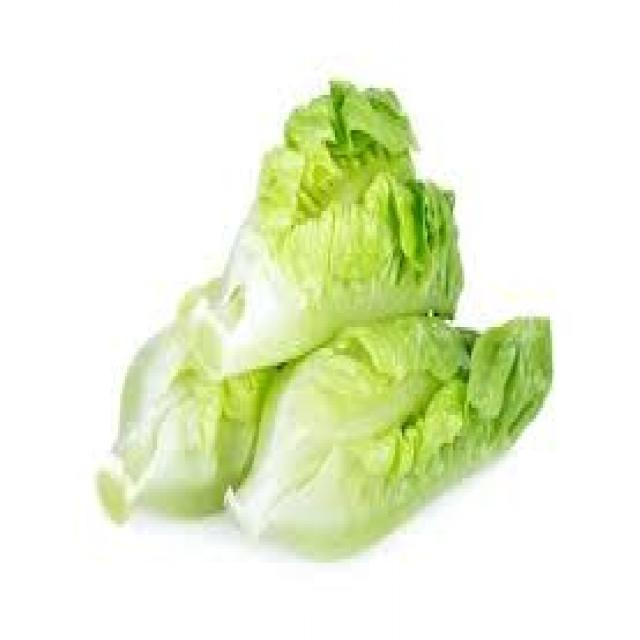Lettuce: (223, 306, 557, 562), (180, 77, 462, 375), (89, 297, 278, 528)
